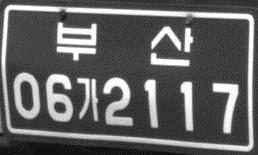0: (12, 69, 41, 121)
1: (178, 80, 197, 132), (142, 78, 160, 128)
2: (101, 76, 134, 128)
6: (44, 72, 74, 124)
7: (210, 80, 240, 136)
가: (75, 76, 101, 123)
부산_D: (54, 19, 194, 68)
